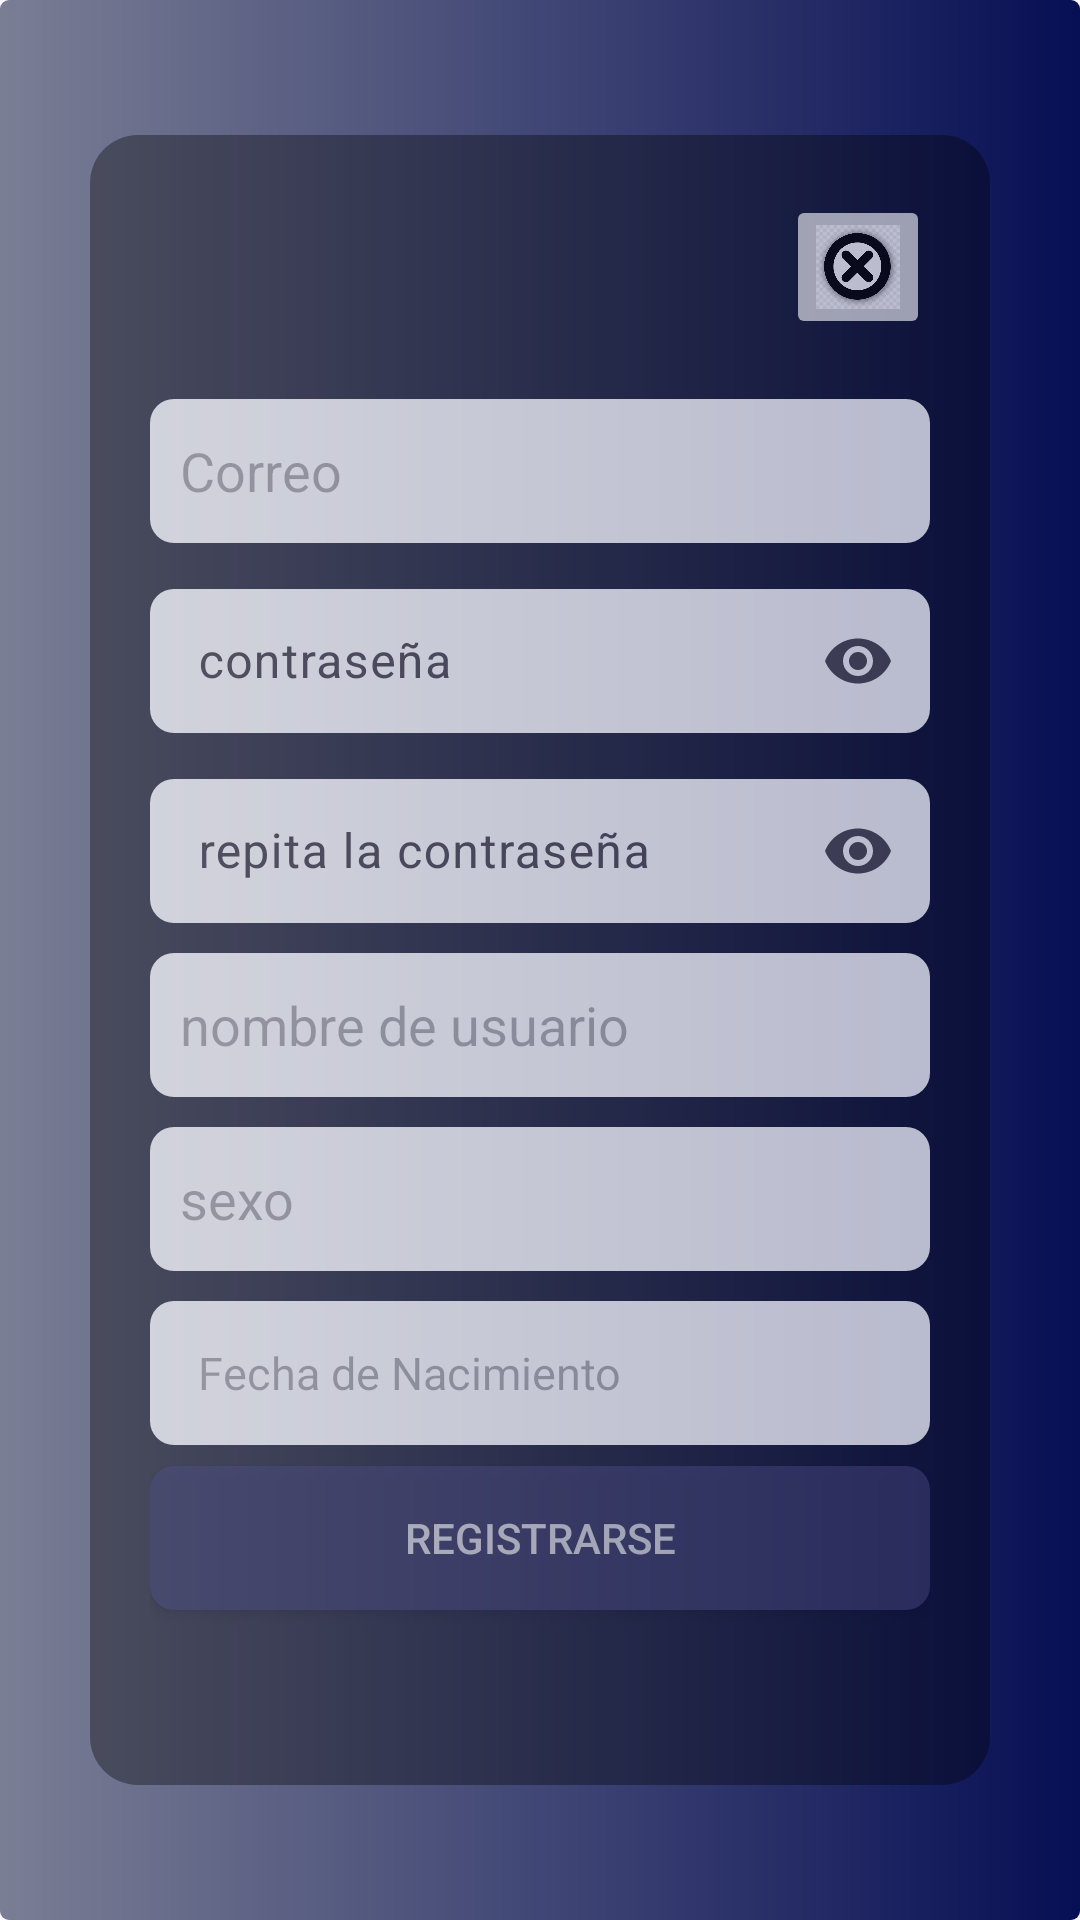

Icons on this 1080*1920 Android screen, each with its box as (x1, y1, x2, y2):
cerar: (798, 213, 918, 321)
